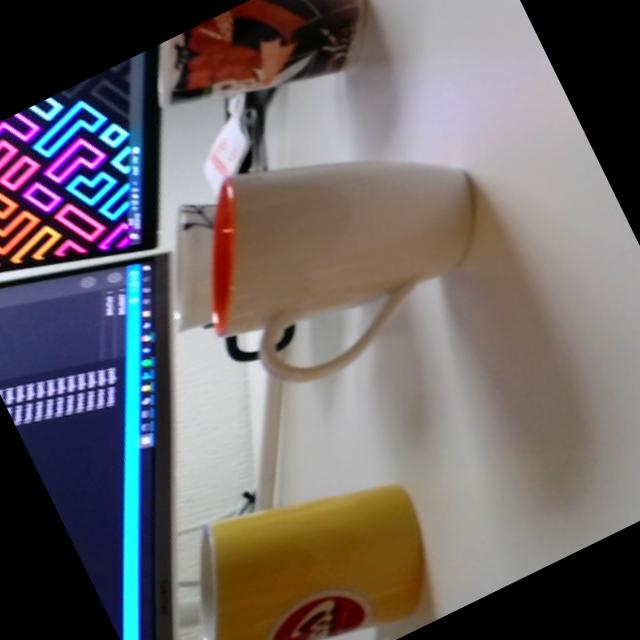Cocio Cup: (145, 431, 465, 640)
Halloween cup: (137, 0, 385, 148)
White Cup: (154, 76, 526, 413)
